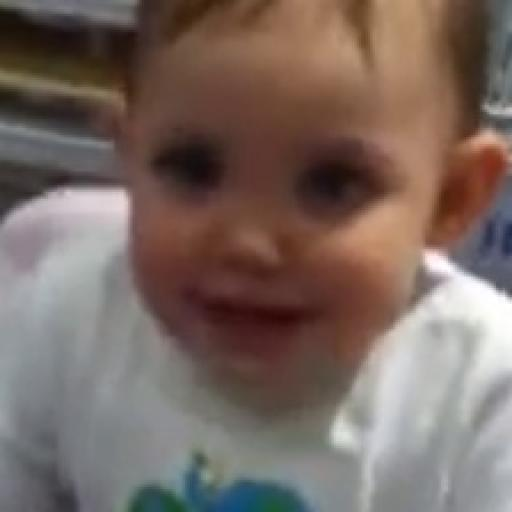Autism: (94, 0, 512, 418)
